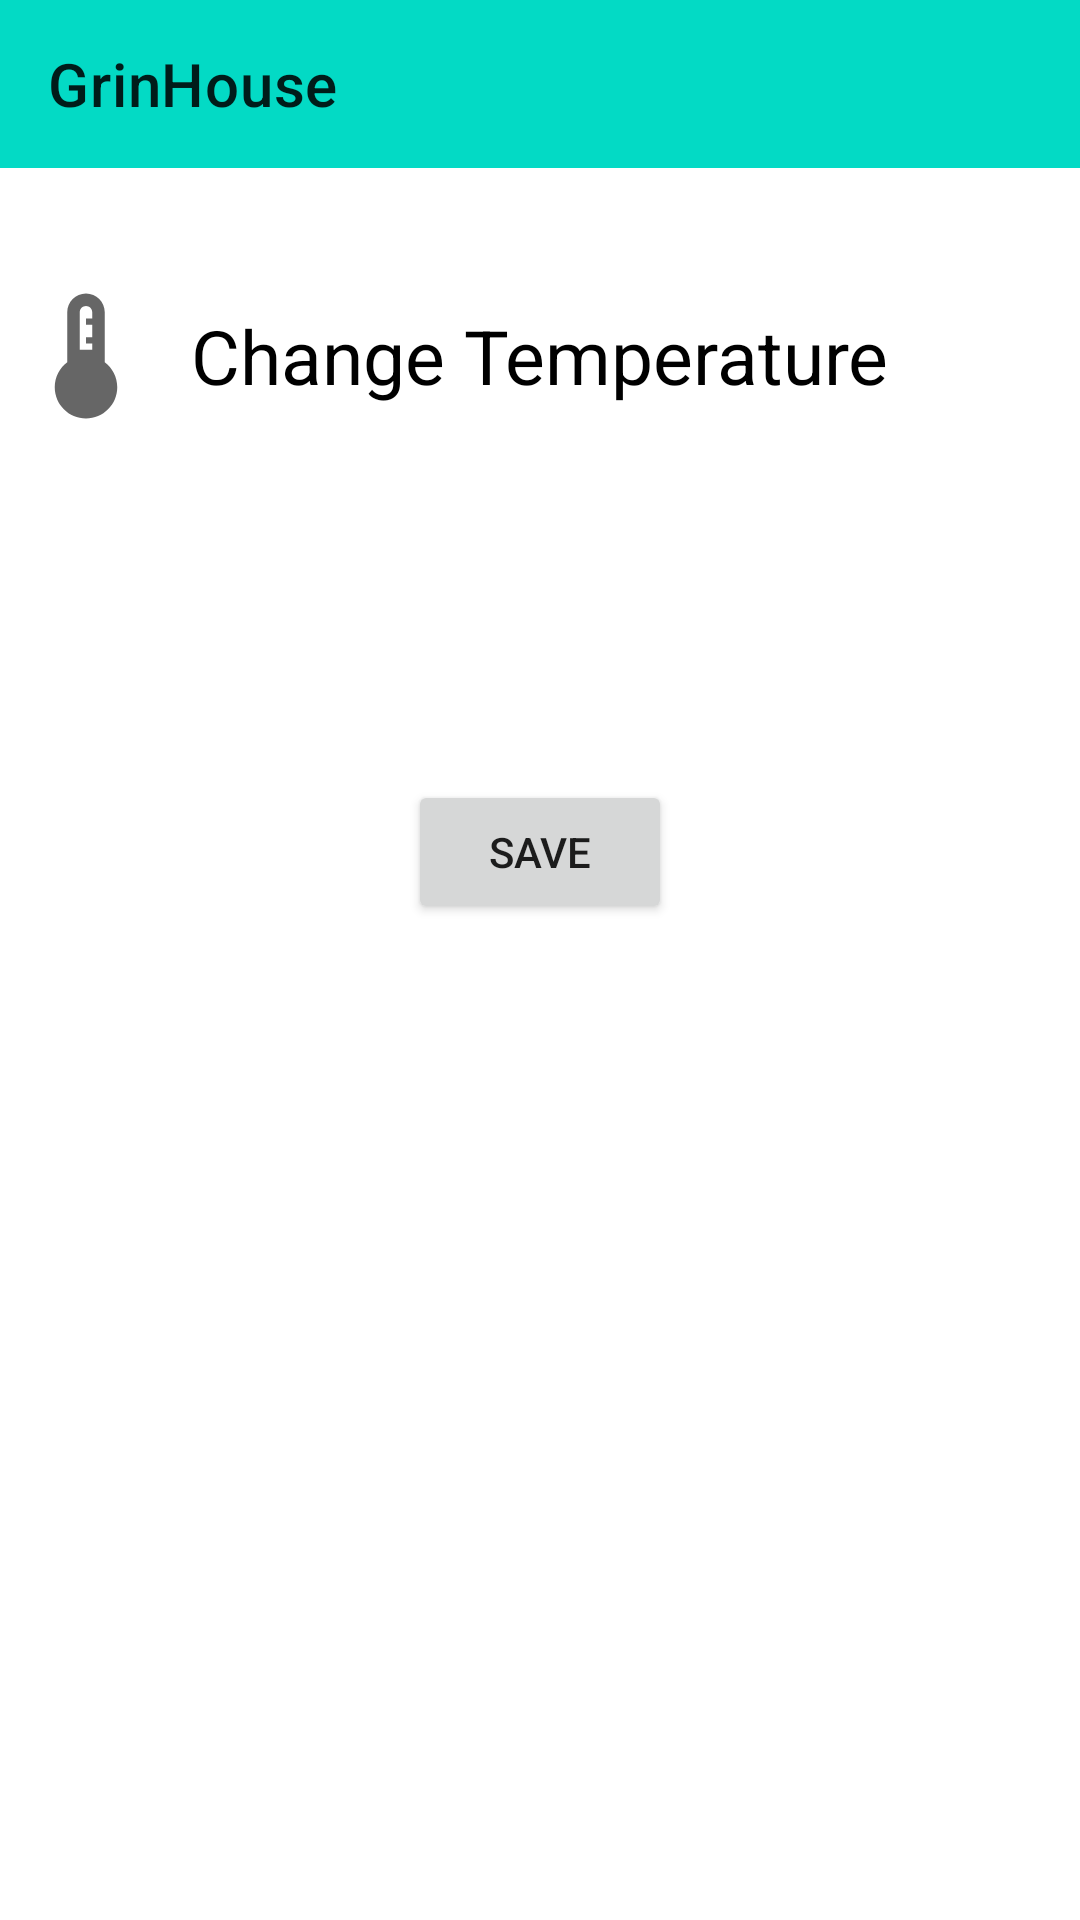

Icon bounding boxes for this 1080w x 1920h phone screenshot, format detection(x1, y1, x2, y2):
thermostat: detection(54, 293, 118, 419)
